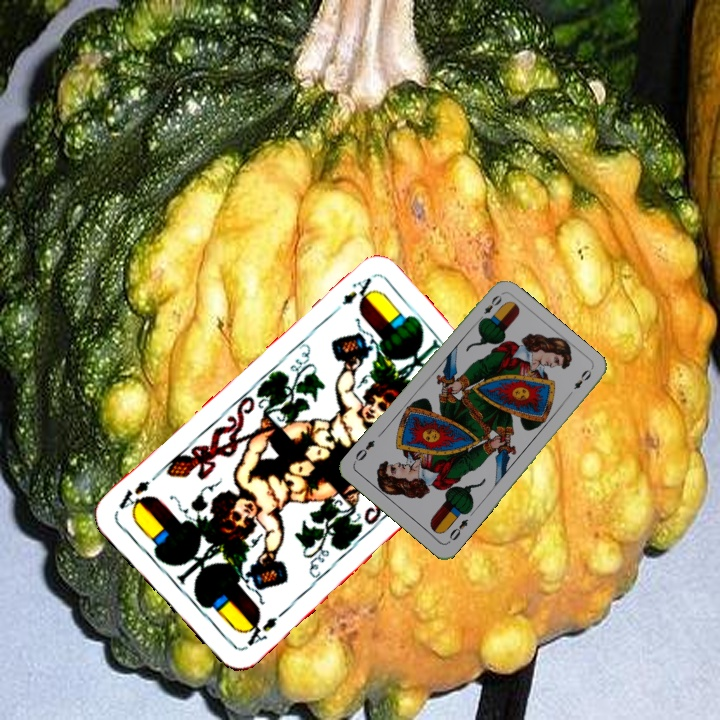EA: (239, 612, 280, 652), (337, 273, 378, 309)
EO: (474, 291, 505, 325), (444, 515, 471, 546)
